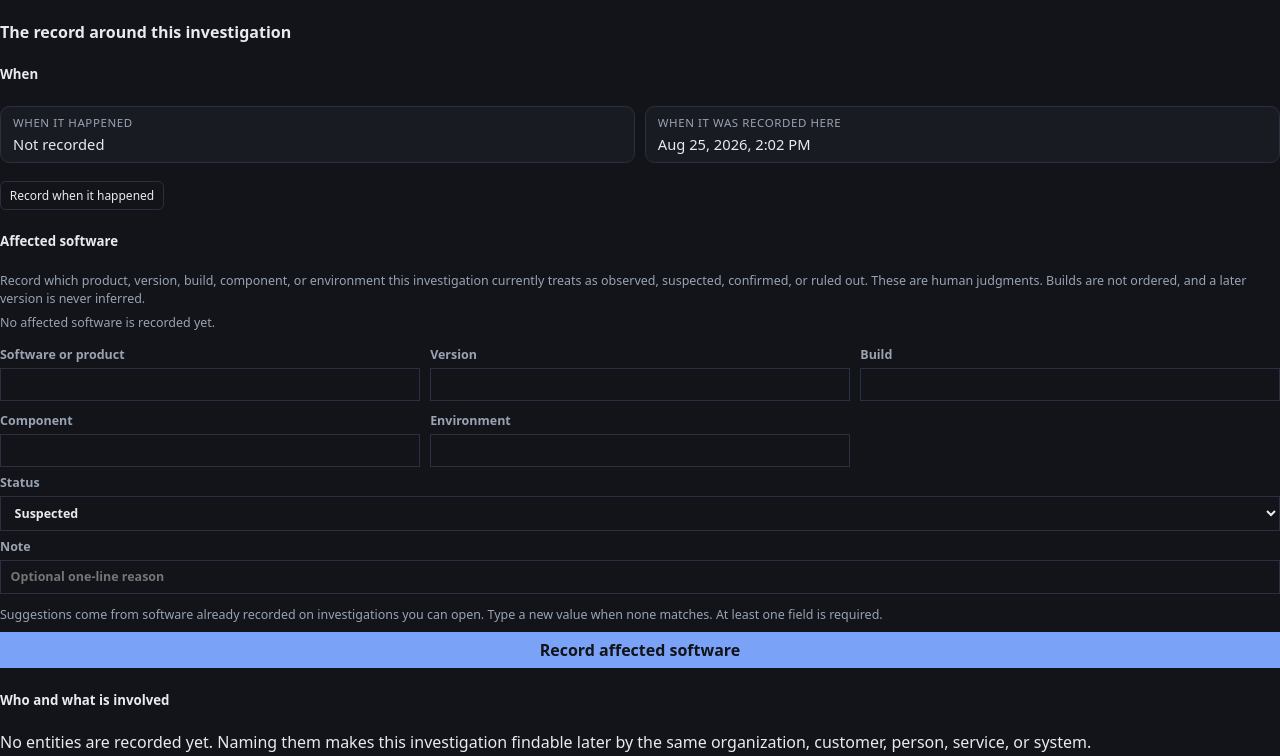
Scenario: showing when something happened › offers to record a date on an investigation that has none
The width and height of the screenshot is (1280, 756).
Click the button "Record when it happened" at (82, 195), box [0,181,164,210]
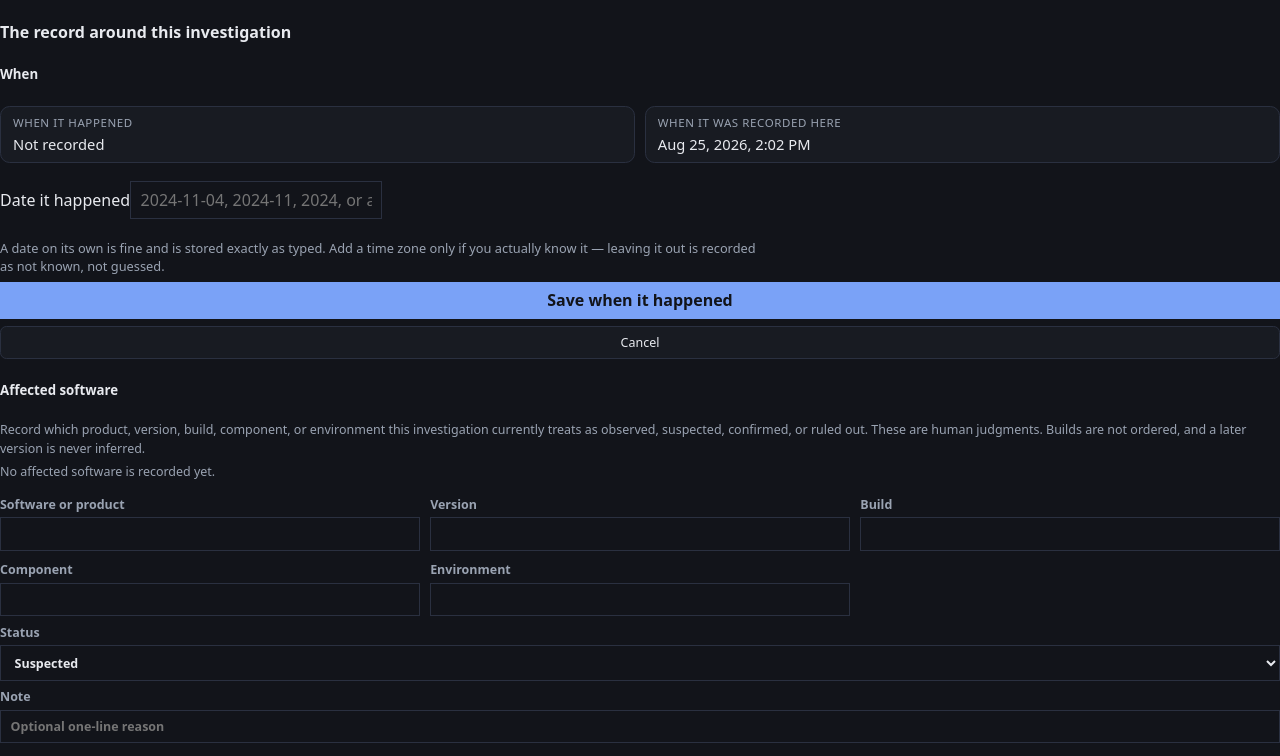
Now the field labelled "Date it happened" is shown, box [130,181,382,219]
Now the text "leaving it out is recorded as not known, not guessed" is shown, box [0,238,756,274]
